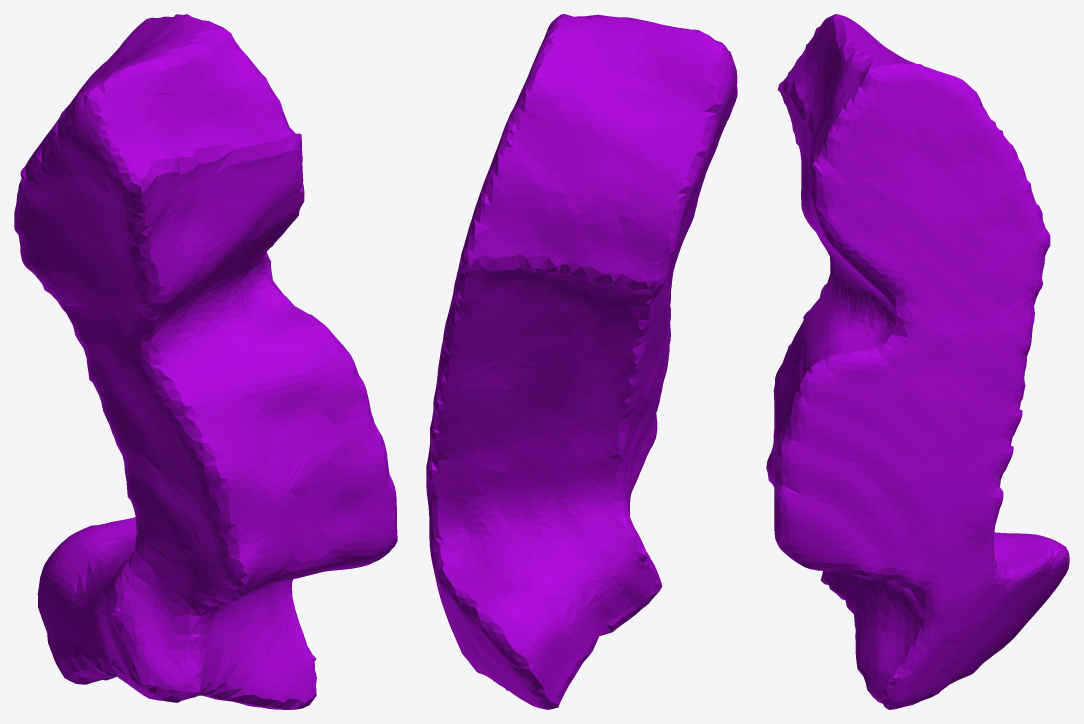
File: Model_129_RH__Temporal_area_TE2_(TE2).obj
3 views of the same model, side by side, from view 1: azimuth 30°, elevation 25°; view 2: azimuth 150°, elevation 25°; view 3: azimuth 270°, elevation 25° (orthographic). The views are drawn at different scales.
Bounding box in the file's own units: 3.23 × 7.42 × 3.37.
